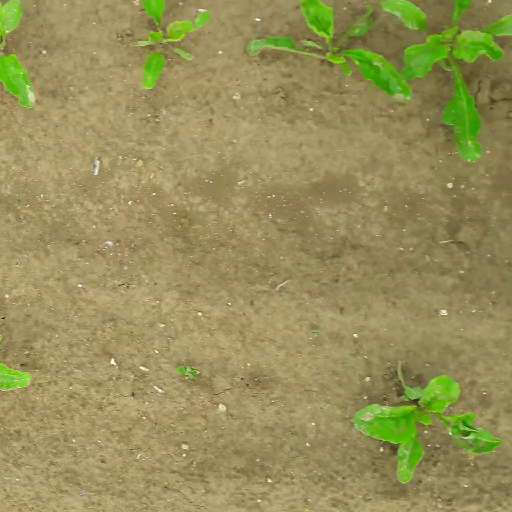sugarbeet: (378, 1, 512, 163), (350, 358, 508, 487), (245, 1, 414, 106), (126, 1, 212, 89), (1, 1, 47, 113)
weed: (170, 362, 203, 382)
